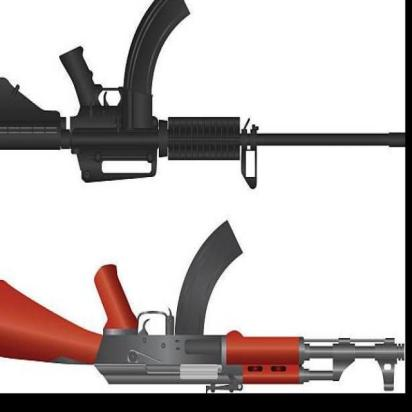Gun: (0, 0, 405, 189), (0, 220, 405, 392)
